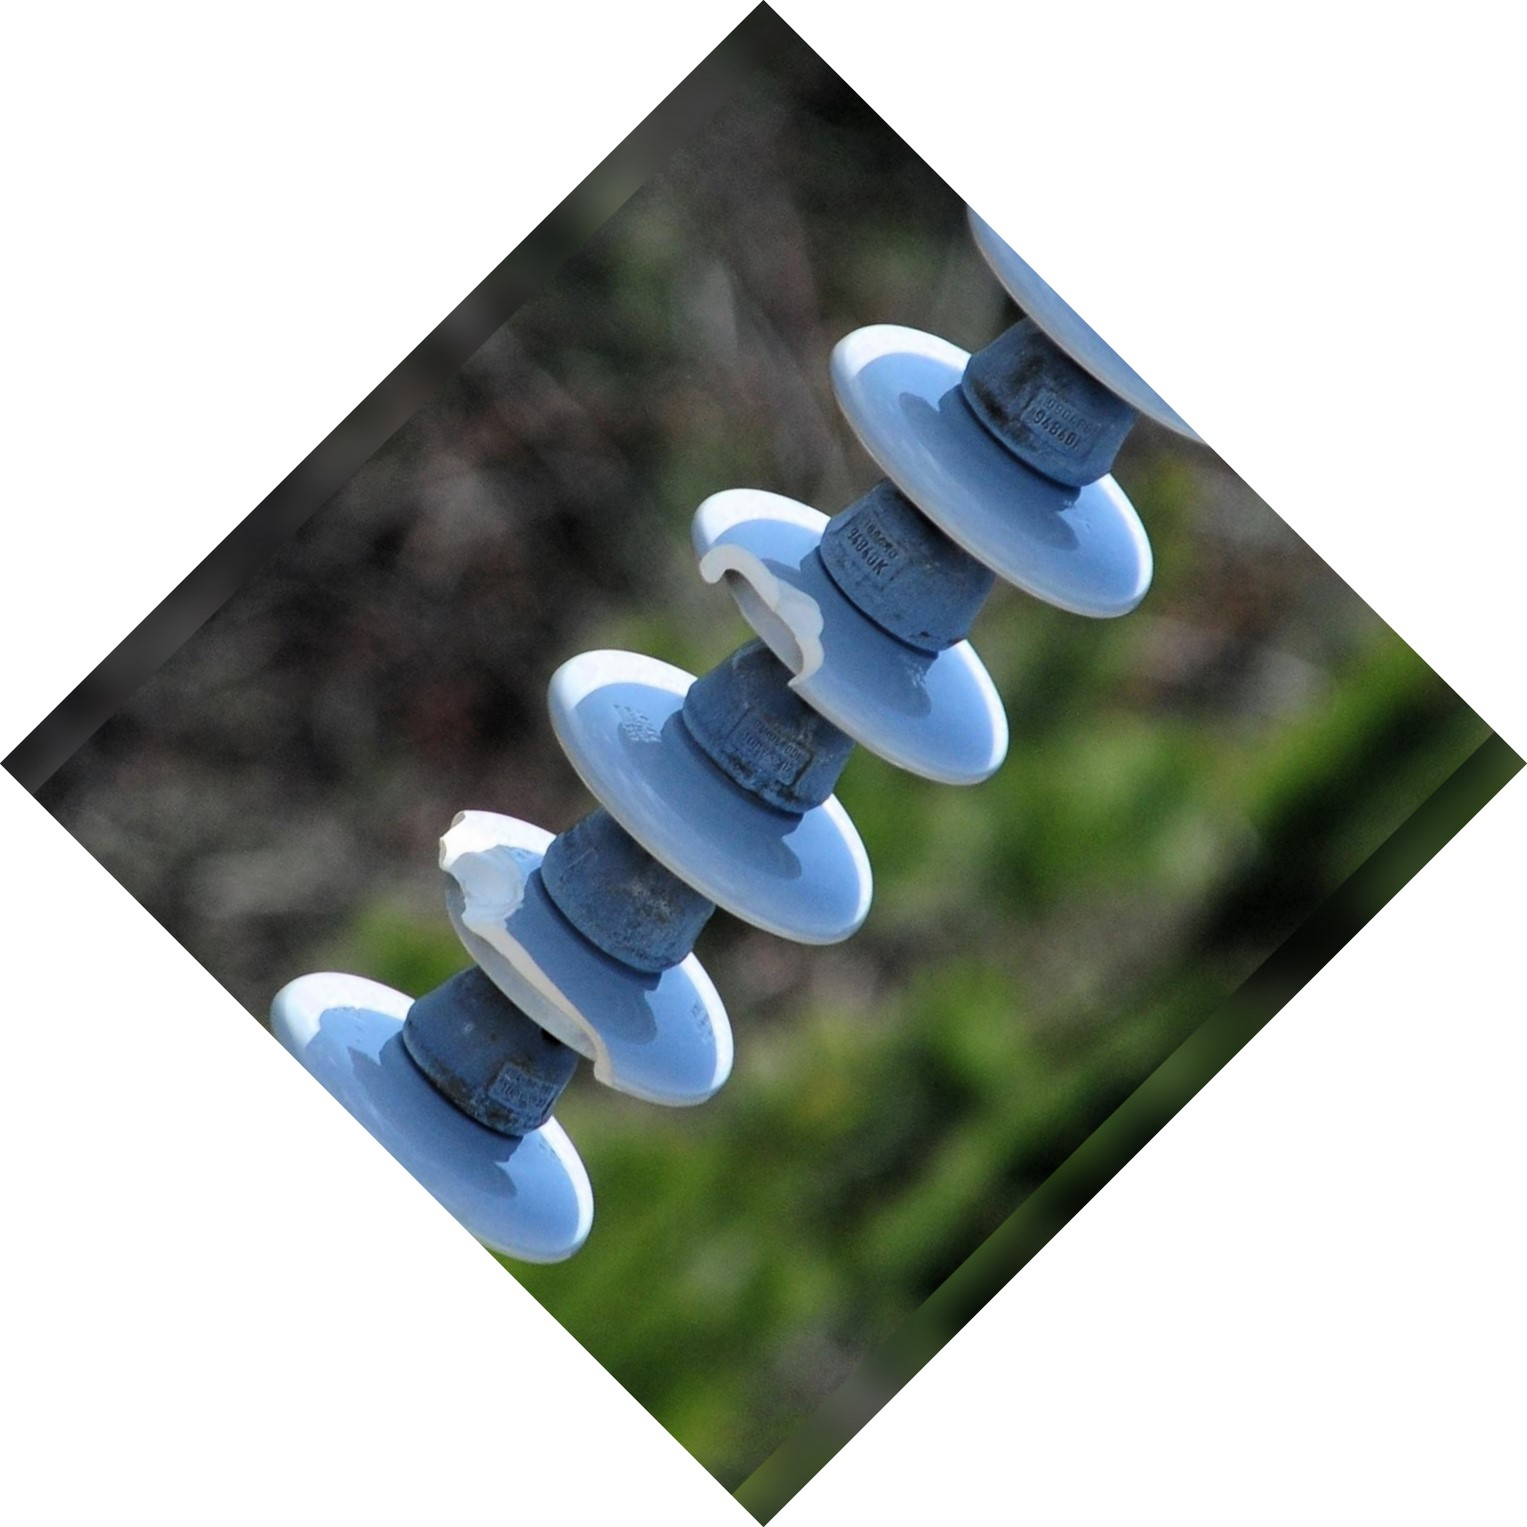insulator breakage: (394, 793, 741, 1131), (673, 480, 1018, 784)
